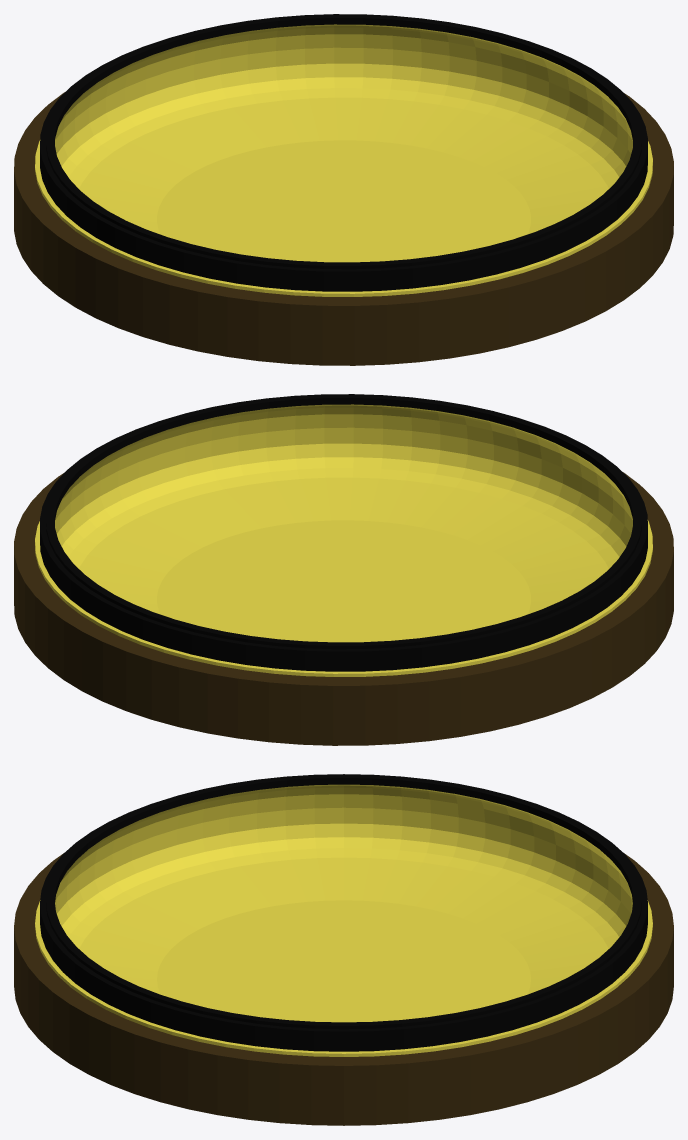
Rendered from roulette_outer.glb.
3 renders of one model, top to bottom at view 1: azimuth 30°, elevation 25°; view 2: azimuth 150°, elevation 25°; view 3: azimuth 270°, elevation 25°, orthographic.
Visible parts, largest first — view 1: outer; view 2: outer; view 3: outer.
Boxes of the visible parts, box(x1,y1,x2,y2) form: outer: box(14, 14, 673, 365); outer: box(14, 394, 673, 745); outer: box(14, 774, 673, 1125).
Size of the model in its own units: 2 by 0.2883 by 2.
